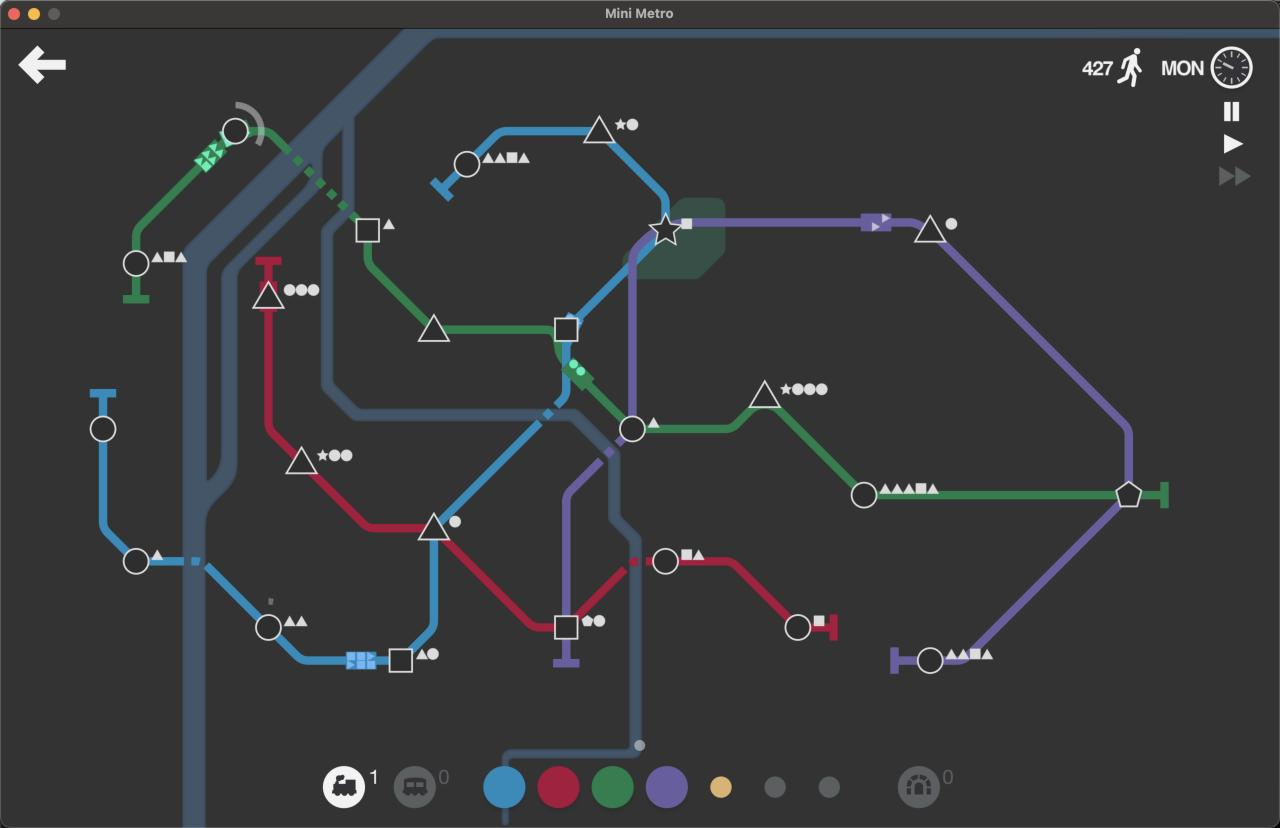CIRCLE: (221, 117, 250, 146), (618, 415, 647, 444), (916, 646, 944, 675), (254, 613, 282, 642), (851, 480, 878, 510), (652, 547, 680, 575), (122, 249, 150, 277), (89, 415, 117, 443), (453, 150, 481, 178), (784, 613, 811, 642), (123, 547, 150, 575)
PENTAGON: (1115, 481, 1143, 509)
SQUARE: (553, 315, 580, 343), (355, 217, 381, 244), (553, 614, 579, 641), (388, 647, 414, 674)
STAR: (648, 213, 682, 245)
TRIANGLE: (416, 511, 453, 543), (416, 312, 451, 344), (285, 444, 318, 476), (582, 114, 616, 145), (748, 379, 782, 409), (251, 280, 285, 310), (914, 214, 947, 244)
